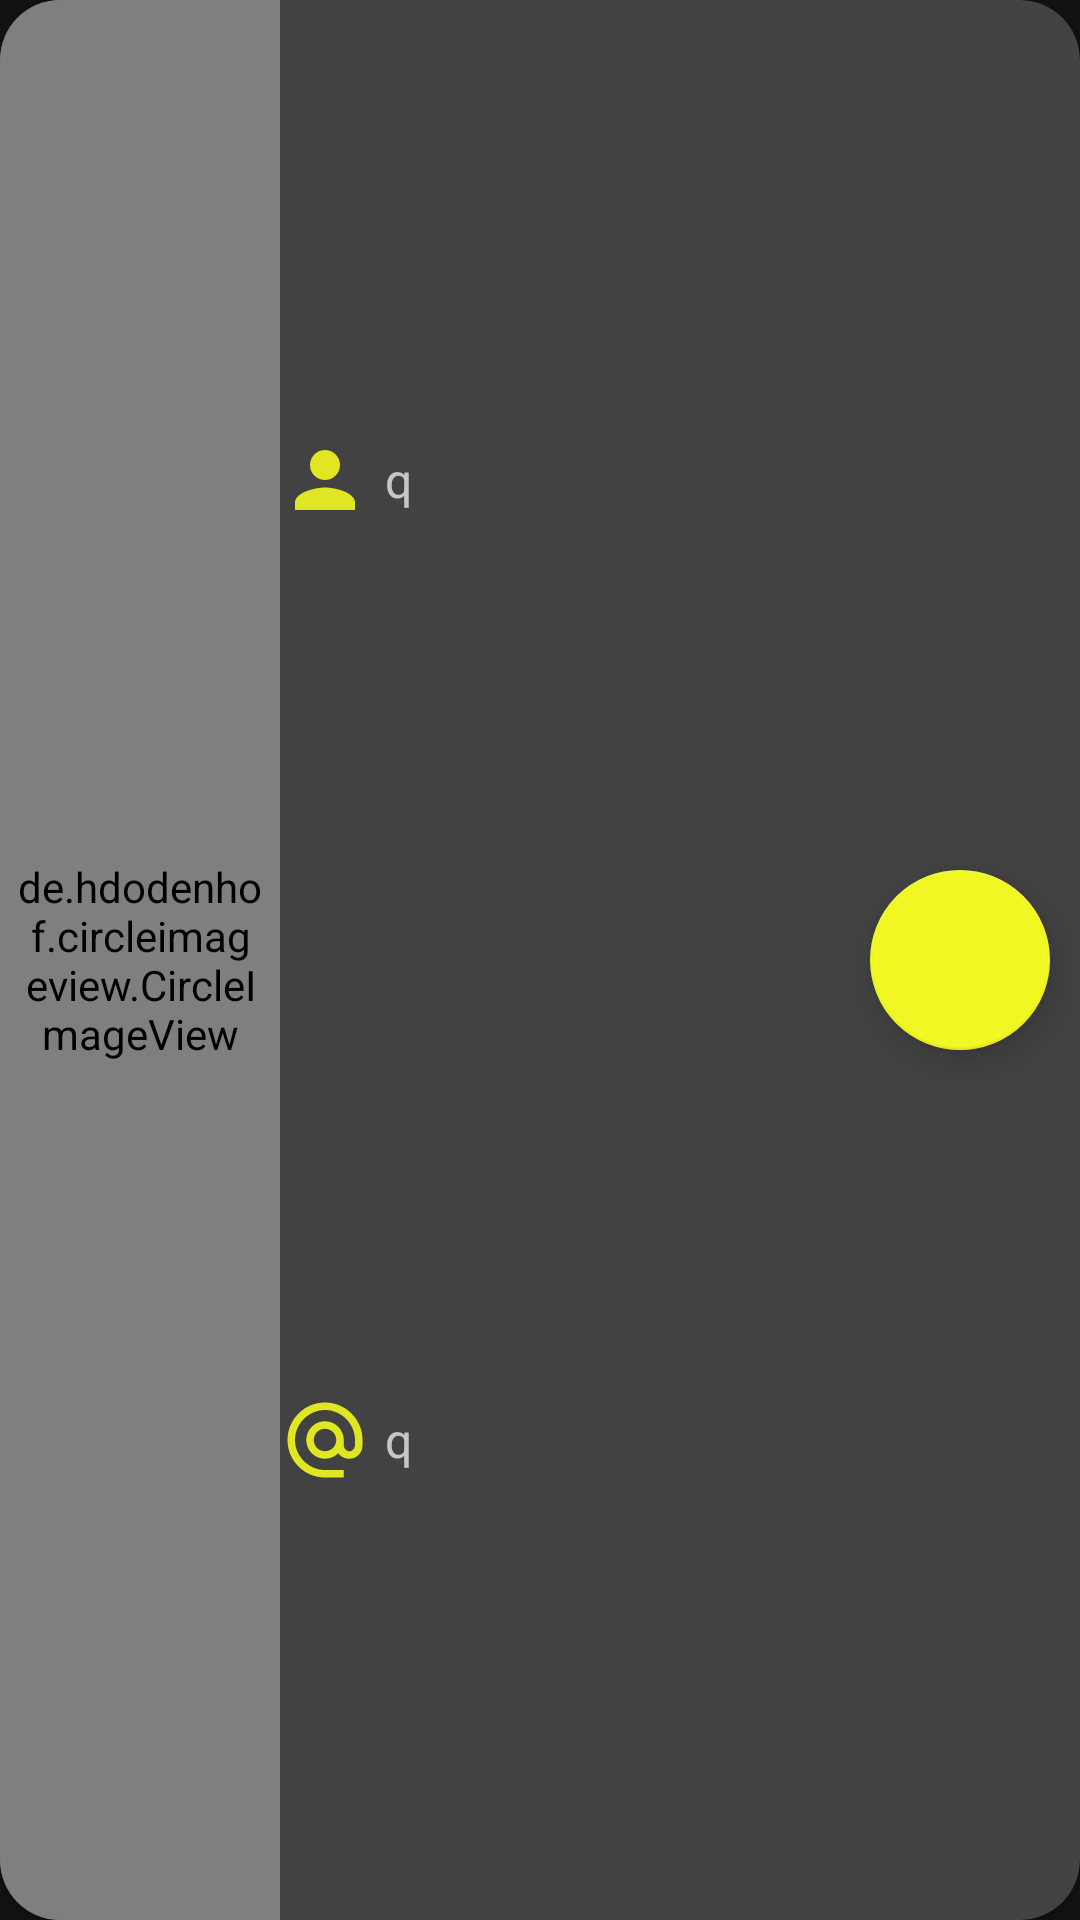

Icon bounding boxes for this 1080px×1920px phone screenshot, format (x1, y1, x2, y2):
mail: (287, 1402, 363, 1478)
person: (295, 450, 355, 510)
